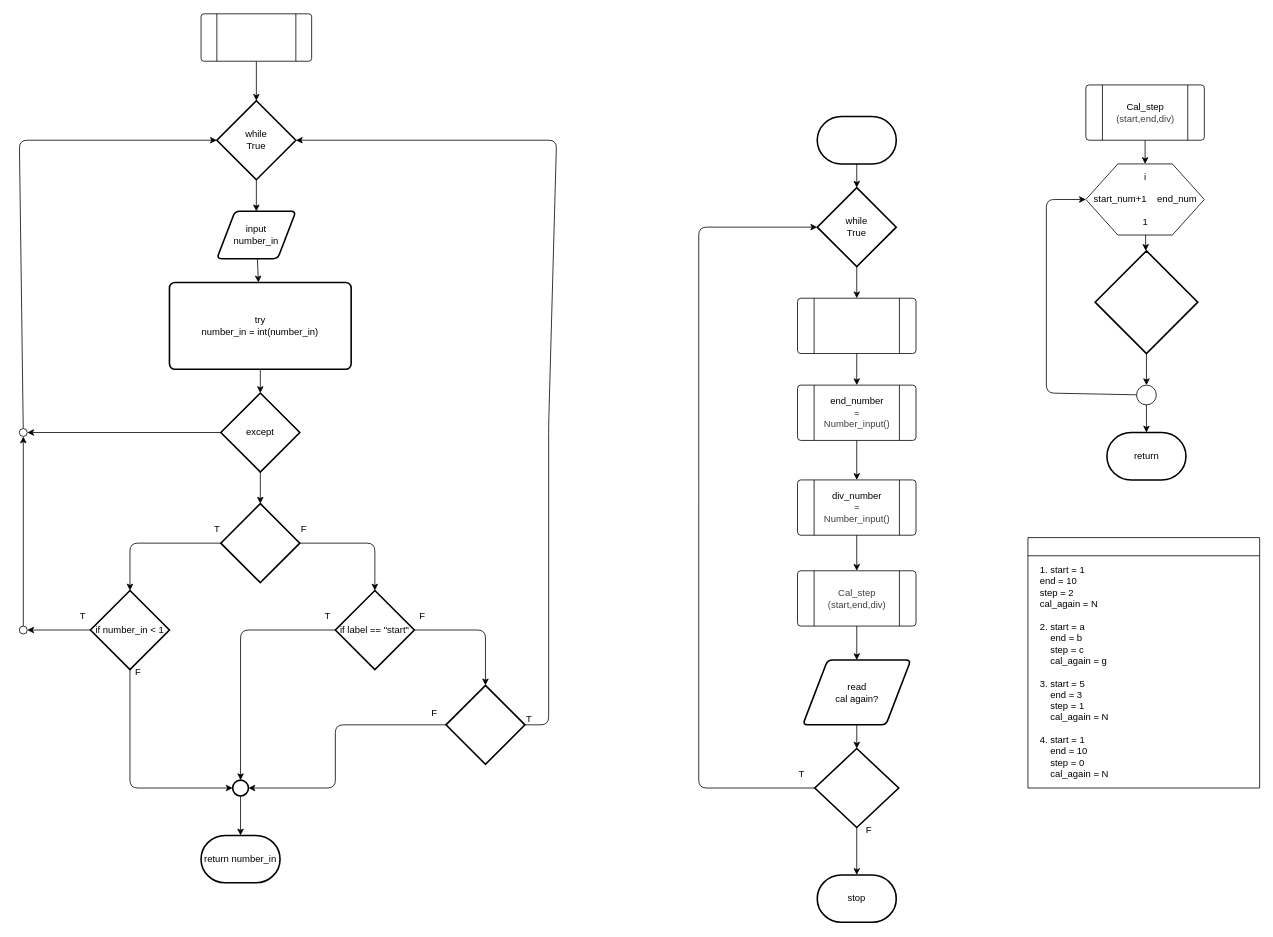
Some shapes in this 1273 by 937 pixel diagram are drawn without their labels. The box of each missing label's shape, as (x1, y1, x2, y2) in pixels:
if cal_again = 'y': (814, 747, 899, 828)
if i % div_num == 0: (1094, 250, 1198, 354)
if label == "step": (220, 502, 300, 583)
if number_in <= start_number: (445, 684, 525, 765)
Number_input(): (200, 13, 312, 61)
start: (816, 115, 897, 164)
start_number = Number_input(): (797, 297, 916, 354)
Test case: (1027, 537, 1260, 788)
